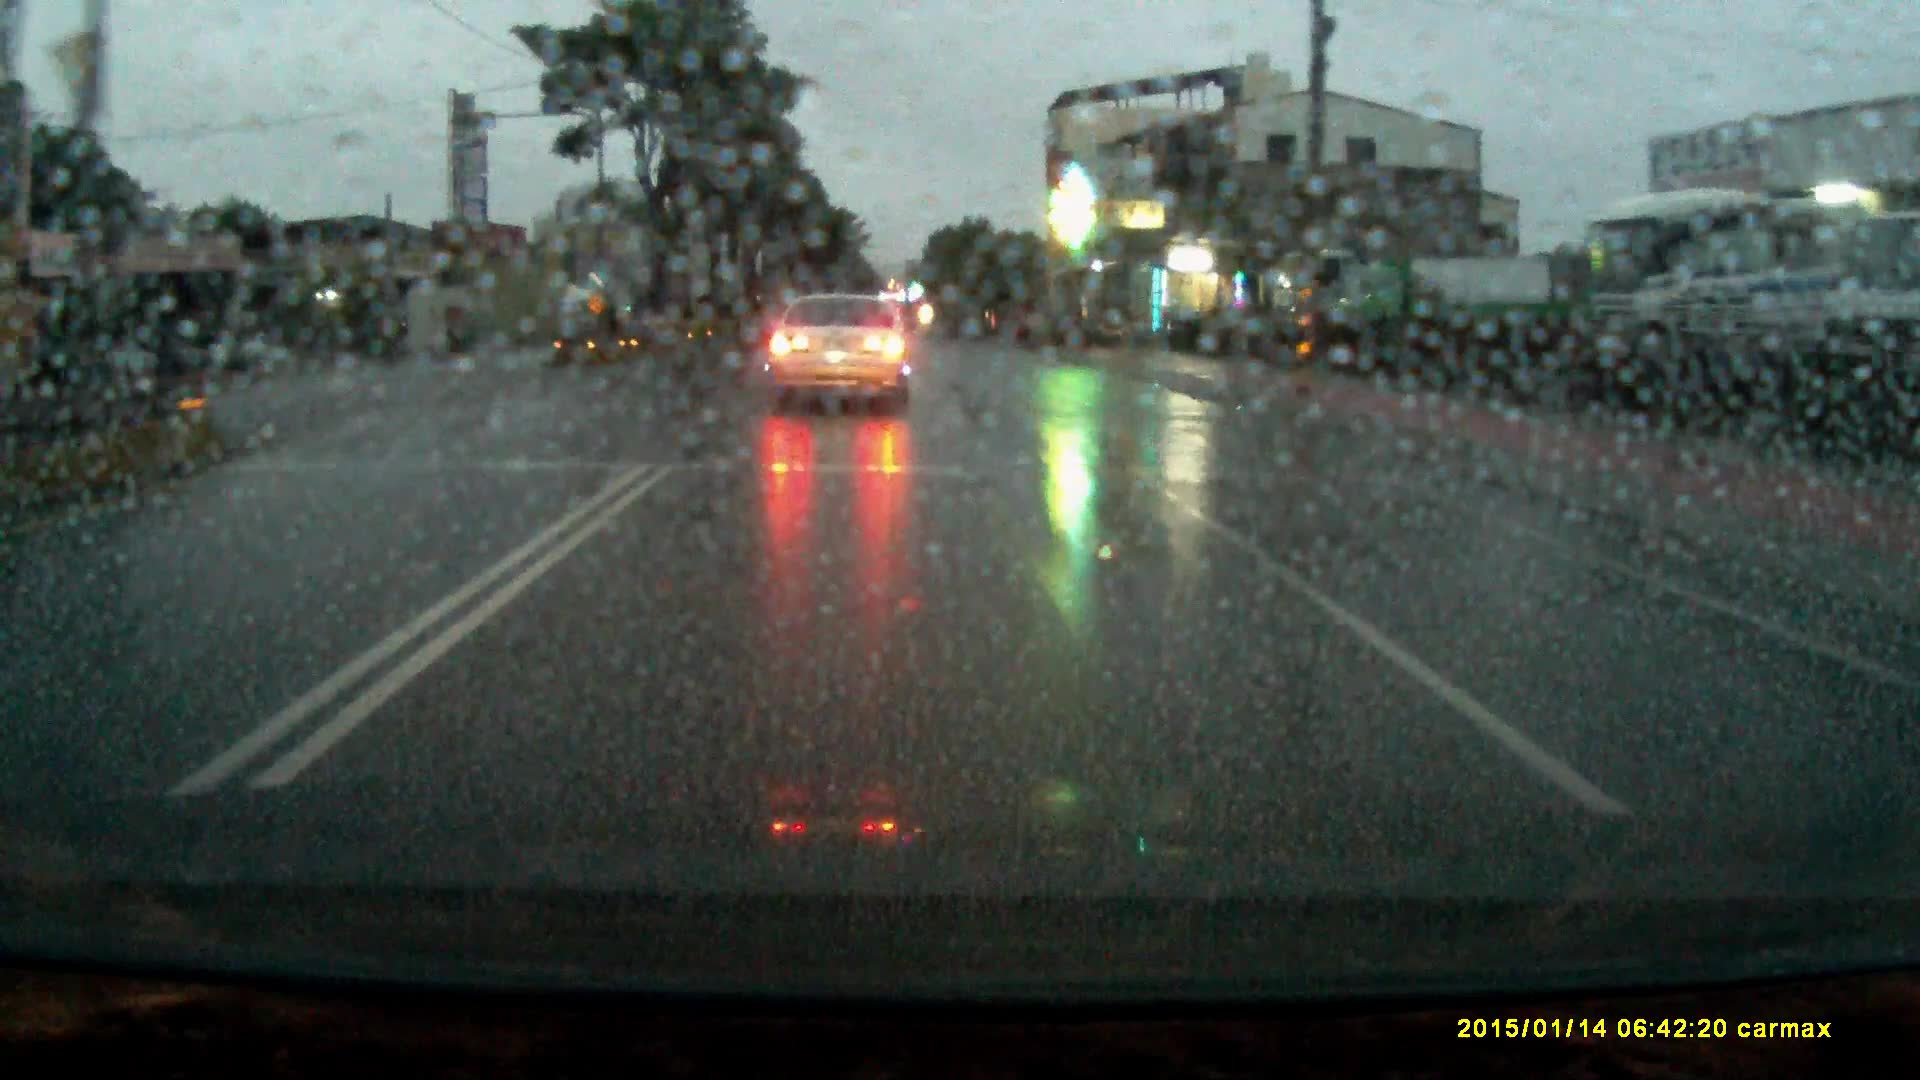vehicle: (1586, 179, 1787, 410), (1756, 208, 1920, 434), (770, 291, 920, 415), (1348, 251, 1545, 344), (1276, 239, 1370, 344), (558, 277, 618, 336)
